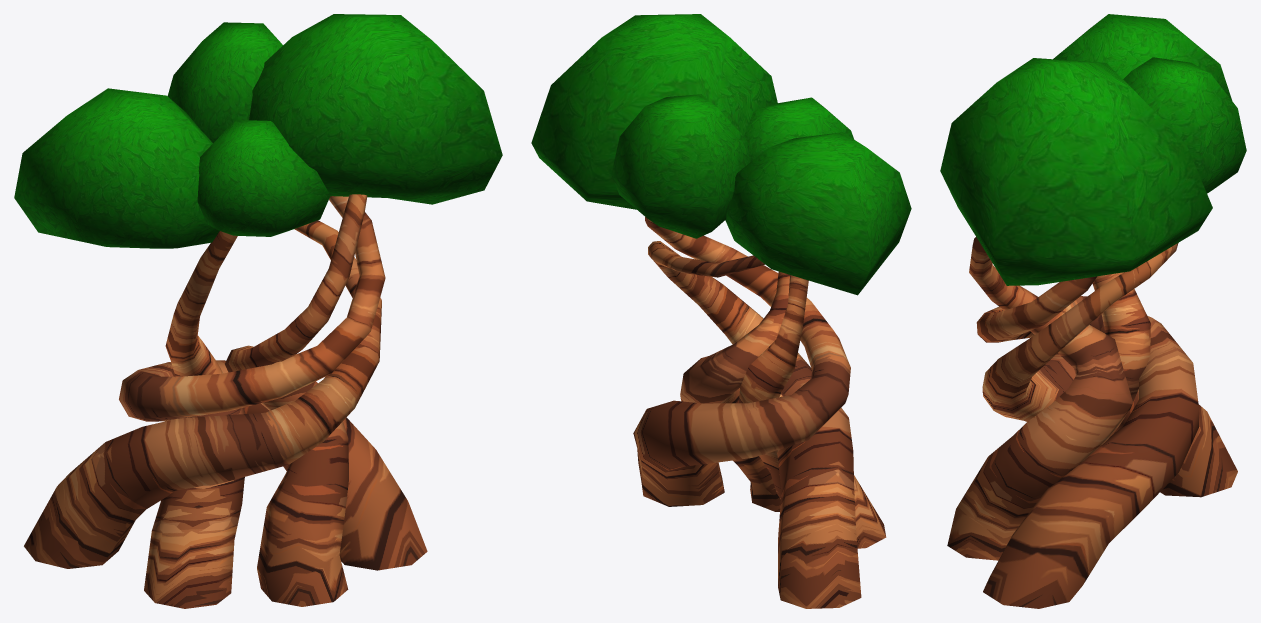
File: tree 12.fbx
3 views of the same model, side by side, from view 1: azimuth 30°, elevation 25°; view 2: azimuth 150°, elevation 25°; view 3: azimuth 270°, elevation 25° (orthographic). The views are drawn at different scales.
Visible parts, largest first — view 1: tree_12; view 2: tree_12; view 3: tree_12.
Part boxes in pixels (x1,y1,x2,y2): tree_12: (14,14,502,608); tree_12: (531,14,911,608); tree_12: (940,14,1246,608).
Size of the model in its own units: 47.49 by 60.05 by 31.6.
